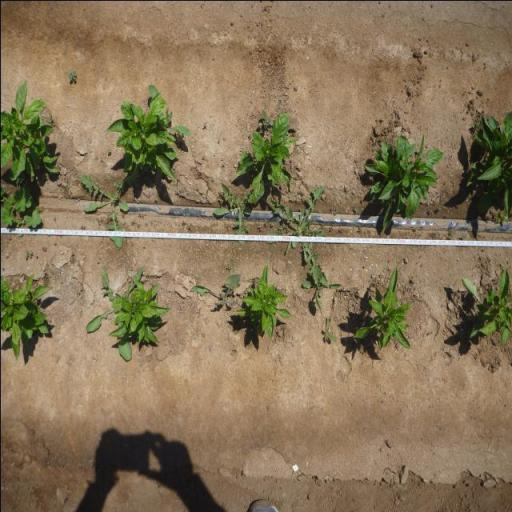plant: (359, 129, 444, 234), (0, 76, 64, 180), (233, 110, 301, 202), (351, 262, 414, 352), (112, 95, 178, 180), (0, 272, 54, 360), (237, 262, 293, 342), (459, 126, 512, 210), (461, 264, 512, 346), (111, 278, 171, 344)
weed: (262, 186, 330, 270), (77, 172, 129, 247), (214, 180, 252, 244), (1, 180, 44, 236), (188, 272, 240, 309), (300, 268, 342, 310), (319, 314, 336, 343), (256, 108, 272, 130), (488, 209, 506, 223), (67, 68, 77, 82), (470, 118, 481, 130), (22, 248, 33, 259), (47, 111, 54, 126), (328, 205, 338, 215), (446, 228, 455, 239), (186, 222, 192, 234), (96, 216, 103, 226), (430, 231, 438, 239), (352, 204, 358, 214), (257, 223, 263, 232), (328, 225, 334, 234), (40, 245, 47, 252), (78, 224, 86, 230), (128, 218, 136, 224), (356, 226, 362, 234), (262, 220, 268, 227), (202, 120, 207, 128), (138, 212, 144, 218), (180, 219, 186, 225), (106, 148, 111, 154), (270, 221, 275, 227), (225, 264, 230, 270), (122, 262, 127, 268), (411, 228, 418, 232)
